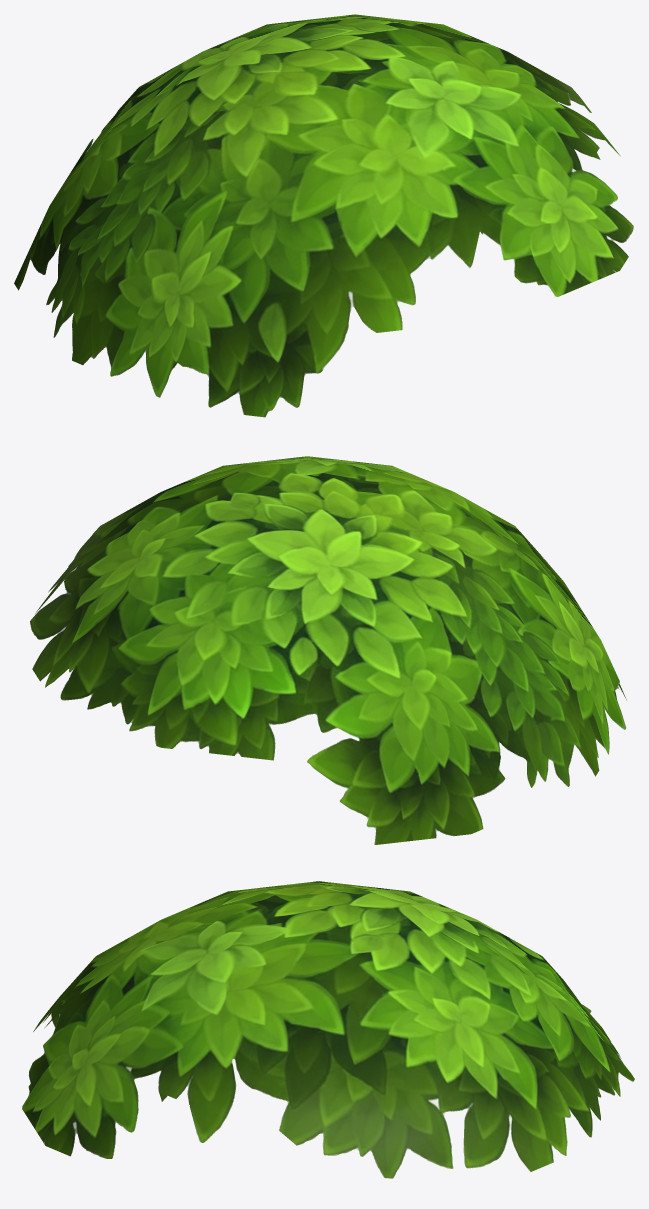
File: Bush.fbx
The picture shows the model from 3 angles, top to bottom: view 1: azimuth 30°, elevation 25°; view 2: azimuth 150°, elevation 25°; view 3: azimuth 270°, elevation 25°; orthographic projection. The views are drawn at different scales.
Visible parts, largest first — view 1: pSphere1; view 2: pSphere1; view 3: pSphere1.
Part boxes in pixels (bbox=[...]): pSphere1: bbox=[14, 14, 633, 417]; pSphere1: bbox=[30, 456, 626, 844]; pSphere1: bbox=[22, 881, 634, 1178].
Bounding box in the file's own units: 6.35 × 2.69 × 6.17.
Materials: 1 (1 with a texture image).
